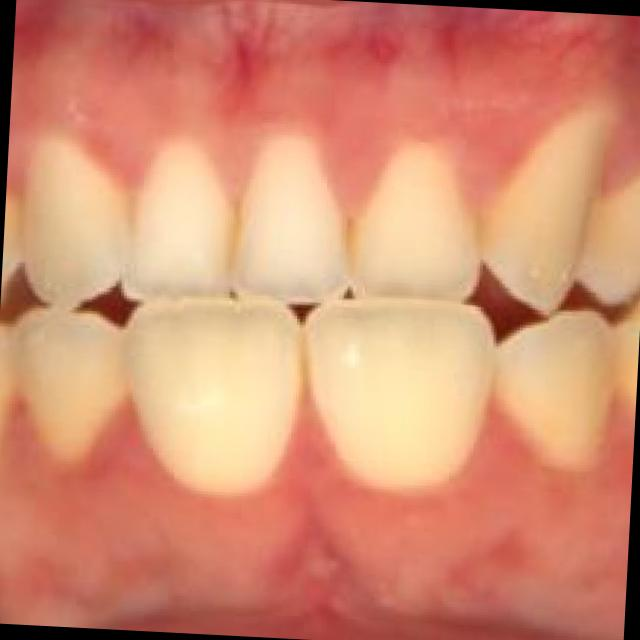karies: (290, 336, 316, 406), (337, 220, 362, 276), (226, 209, 252, 262)
